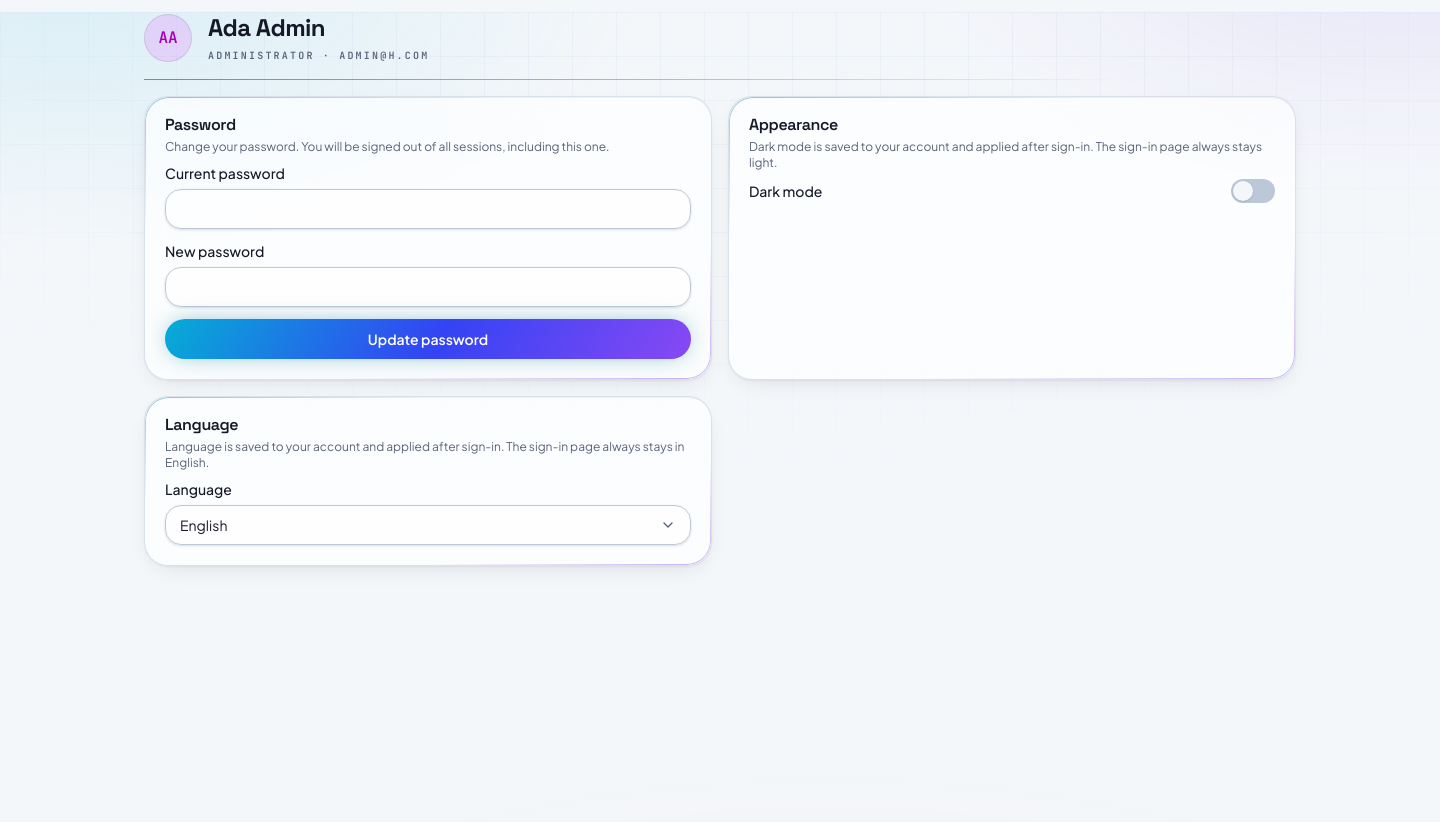
Test case: ProfilePage language › shows an error and keeps the old language when saving fails
The image size is (1440, 822).
Click the dropdown with id "language" at coordinates (204, 525), box top-left (165, 505), bottom-right (691, 545)
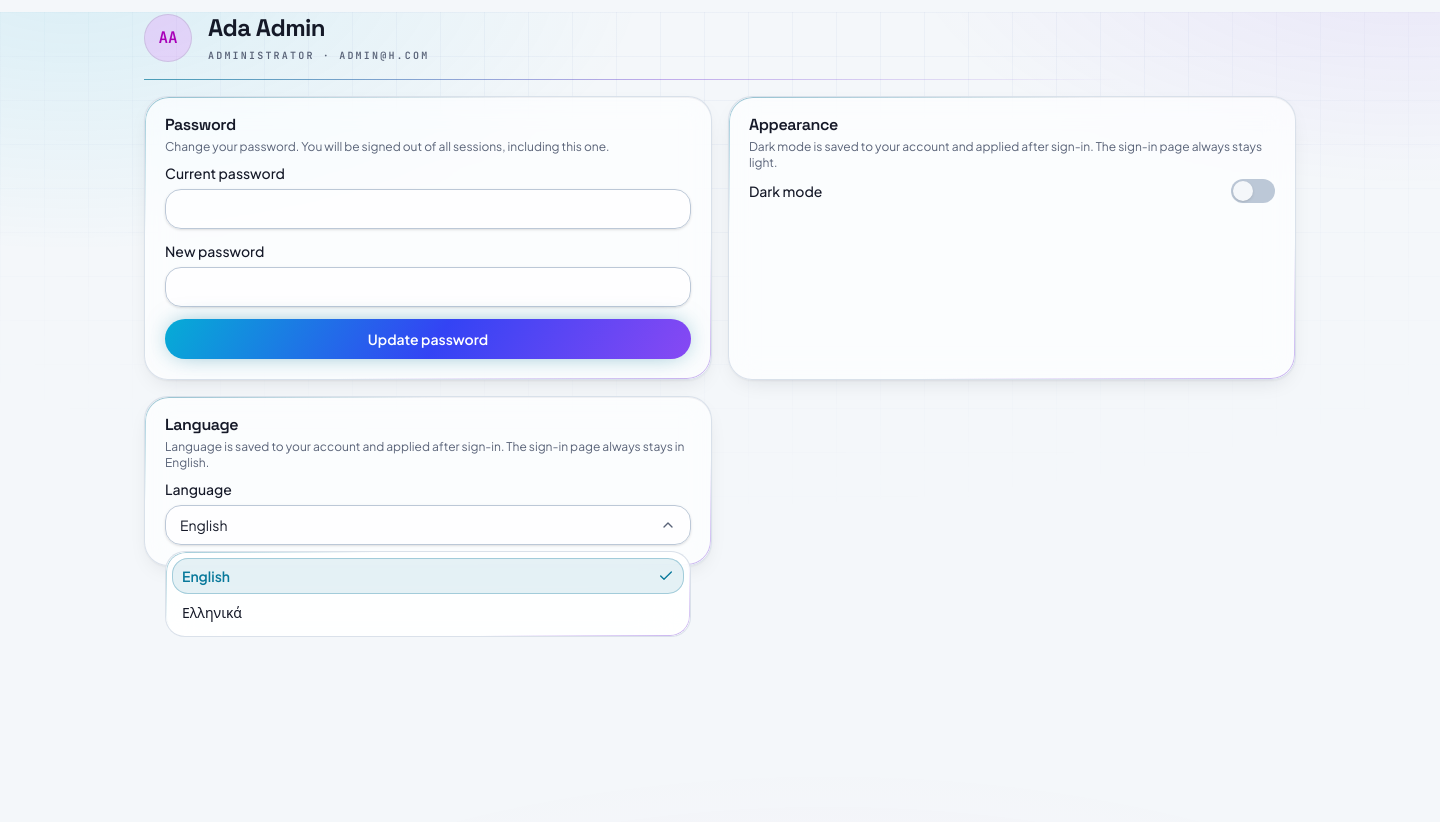
Click the option "Ελληνικά" at coordinates (212, 612), box top-left (172, 594), bottom-right (684, 630)
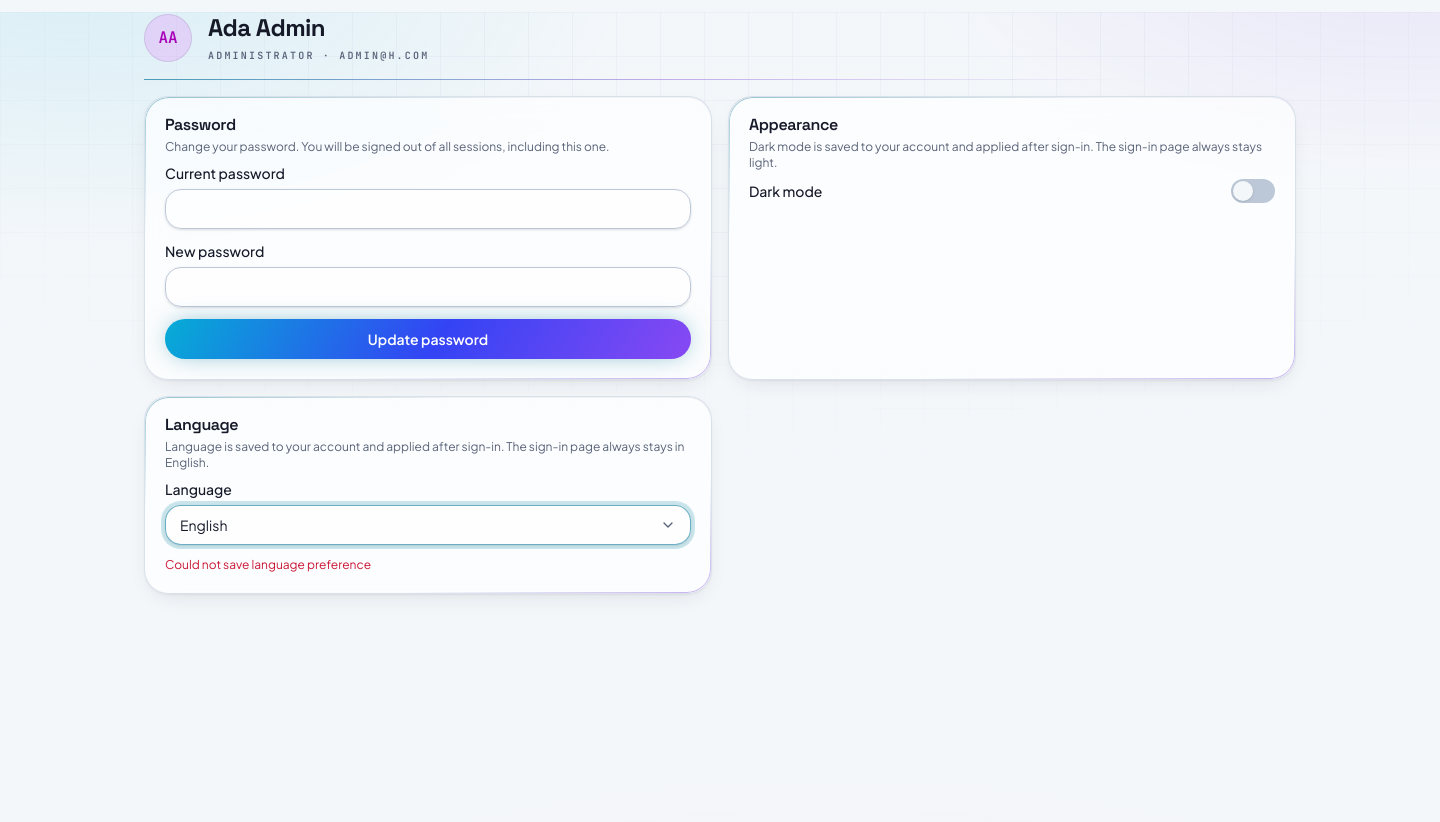
Expected: the dropdown with id "language" reads "English", top-left (165, 505), bottom-right (691, 545)
Expected: the message "Could not save language preference" is shown, top-left (165, 557), bottom-right (371, 572)
